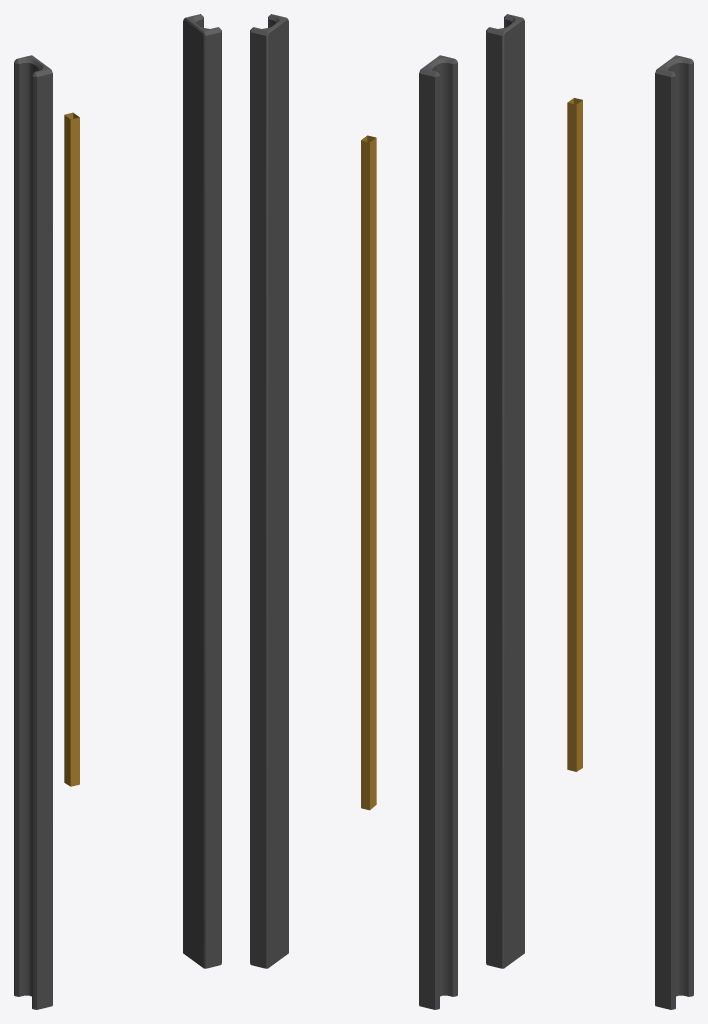
File: mast_3.glb
The picture shows the model from 3 angles, left to right: view 1: azimuth 30°, elevation 25°; view 2: azimuth 150°, elevation 25°; view 3: azimuth 330°, elevation 25°; orthographic projection.
Visible parts, largest first — view 1: CHAINSYSTEM2; view 2: CHAINSYSTEM2; view 3: CHAINSYSTEM2.
Part boxes in pixels (x1,y1,x2,y2): CHAINSYSTEM2: (14,14,221,1009); CHAINSYSTEM2: (250,14,457,1009); CHAINSYSTEM2: (486,14,693,1009).
Size of the model in its own units: 0.5199 by 2.46 by 0.1436.
Materials: 1 (1 with a texture image).
